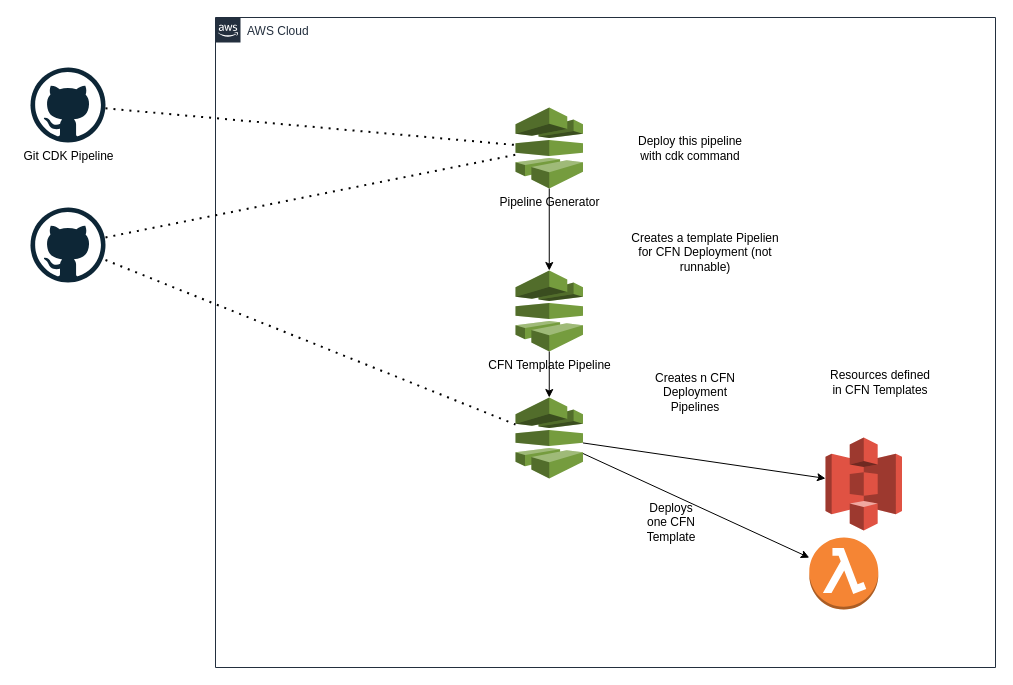
The diagram is 1013 pixels wide and 685 high, and some of its shapes have lost their labels. Here are the shapes that lost their labels. From the top down, the centre of each, then its label:
At (x=68, y=244): "Git CFN Templates".
At (x=548, y=437): "n CFN Pipelines".
